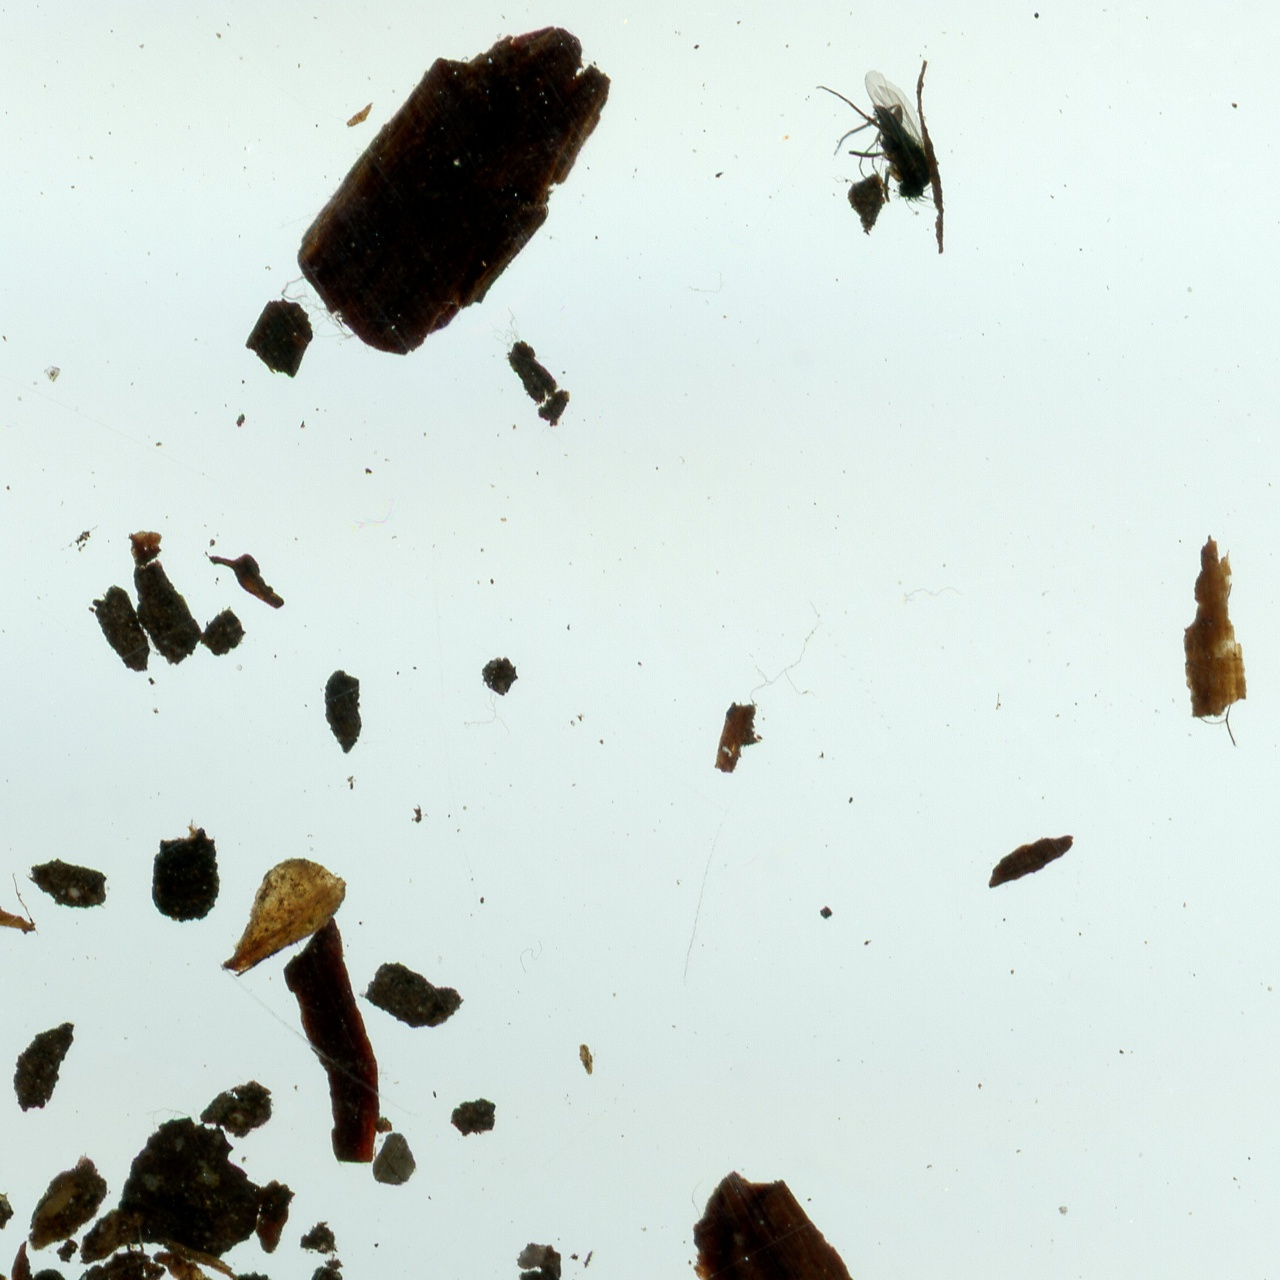arthropod: (803, 50, 959, 242)
